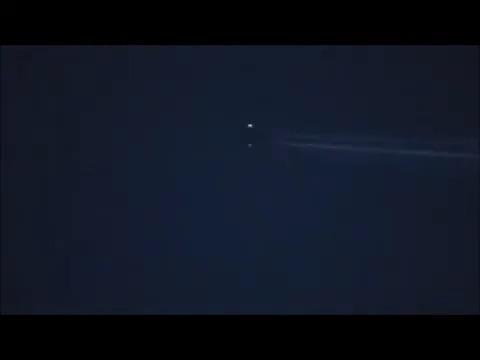Plane: (205, 114, 479, 174)
